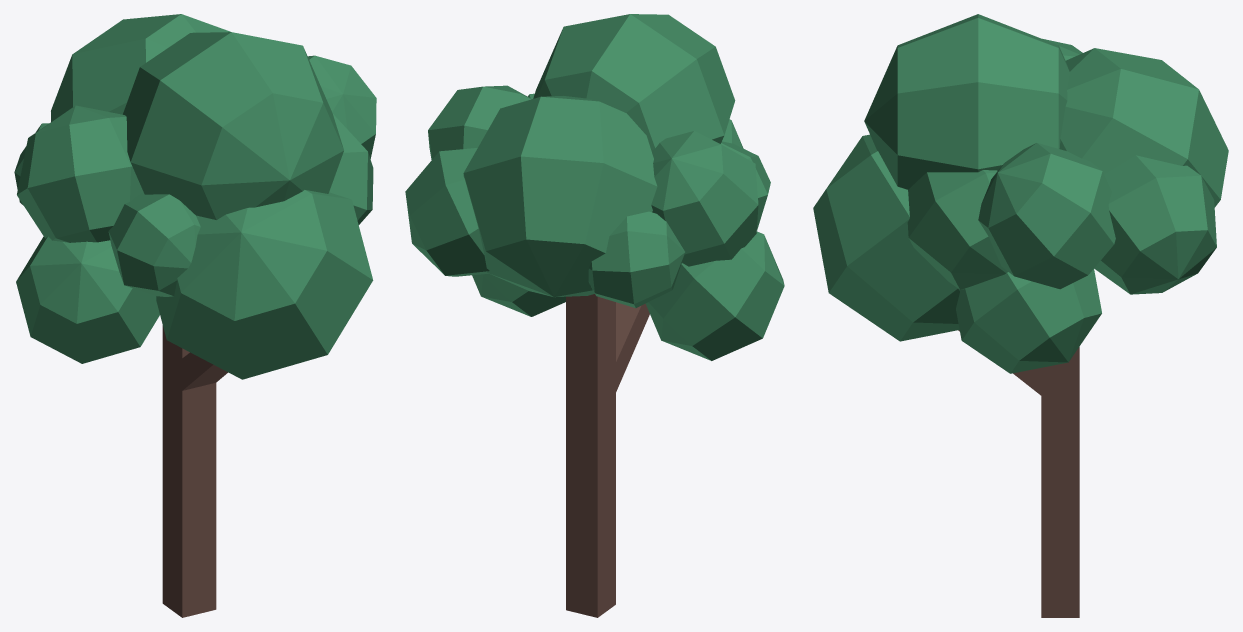
Rendered from tree.fbx.
3 views of the same model, side by side, from view 1: azimuth 30°, elevation 25°; view 2: azimuth 150°, elevation 25°; view 3: azimuth 270°, elevation 25° (orthographic). The views are drawn at different scales.
Parts seen in each view (by area): view 1: pCube6; view 2: pCube6; view 3: pCube6.
Boxes of the visible parts, bbox=[...] form: pCube6: bbox=[14, 14, 376, 617]; pCube6: bbox=[405, 14, 784, 617]; pCube6: bbox=[813, 14, 1228, 617].
Size of the model in its own units: 93.46 by 152 by 96.92.
